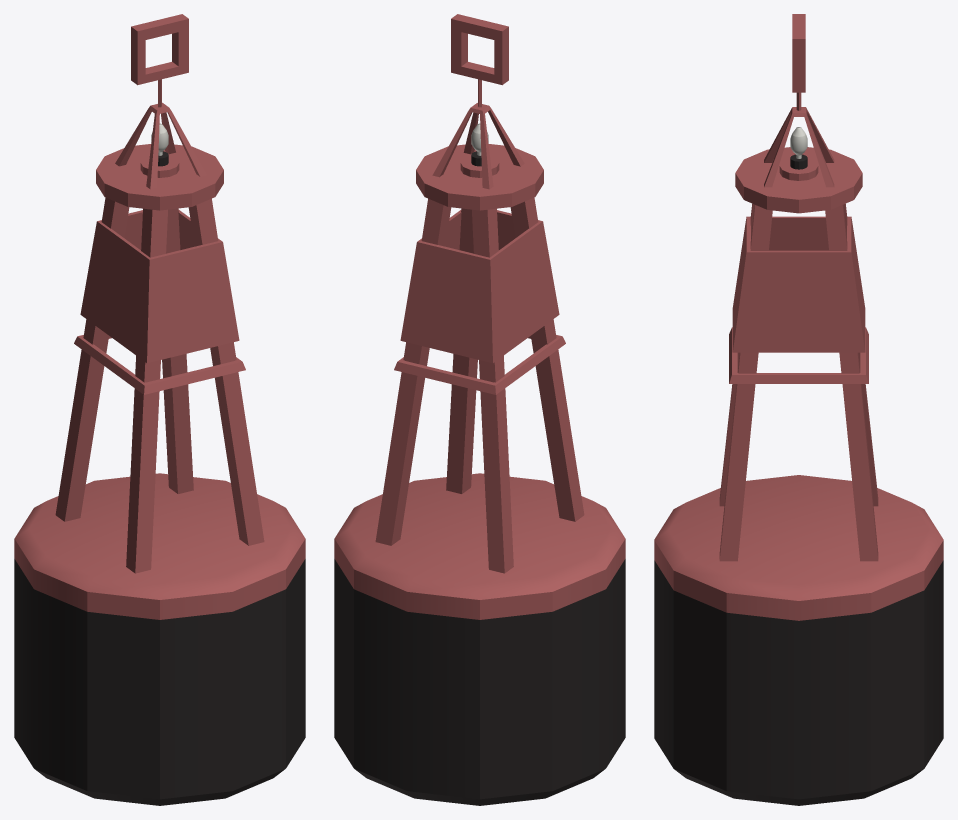
File: Buoys_Quadrado.fbx
The picture shows the model from 3 angles, left to right: view 1: azimuth 30°, elevation 25°; view 2: azimuth 150°, elevation 25°; view 3: azimuth 270°, elevation 25°; orthographic projection.
Parts seen in each view (by area): view 1: BuoyPe, BuoyApoio2, BuoyApoio, BuoyQuadrado; view 2: BuoyPe, BuoyApoio2, BuoyApoio, BuoyQuadrado; view 3: BuoyPe, BuoyApoio2, BuoyApoio, BuoyQuadrado.
Boxes of the visible parts, box(x1,y1,x2,y2) form: BuoyPe: box(14, 473, 305, 805); BuoyApoio2: box(74, 144, 245, 394); BuoyApoio: box(55, 102, 264, 573); BuoyQuadrado: box(131, 14, 188, 85); BuoyPe: box(334, 473, 625, 805); BuoyApoio2: box(394, 144, 565, 394); BuoyApoio: box(375, 103, 584, 573); BuoyQuadrado: box(451, 14, 508, 85); BuoyPe: box(654, 475, 943, 805); BuoyApoio2: box(729, 147, 868, 383); BuoyApoio: box(719, 107, 878, 561); BuoyQuadrado: box(792, 14, 805, 92).
Size of the model in its own units: 1.59 by 4.39 by 1.59.
